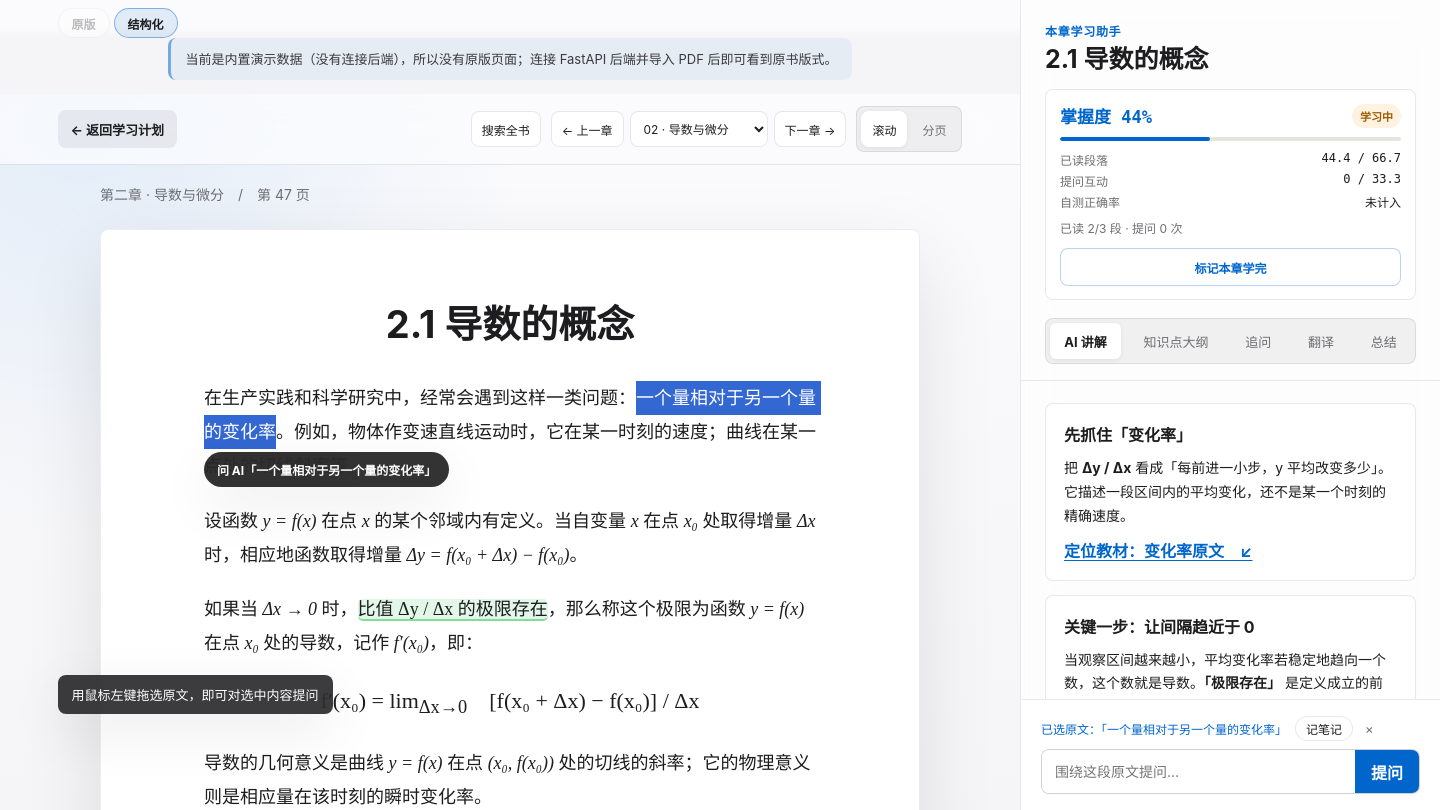
Scenario: 笔记 › 保存失败时把原因说出来，且不清空用户写的内容
Expected: the element with test id "paper" is shown, x1=100 y1=229 x2=920 y2=809
Click the button with test id "note-start" at (1324, 728), box x1=1295 y1=716 x2=1353 y2=741
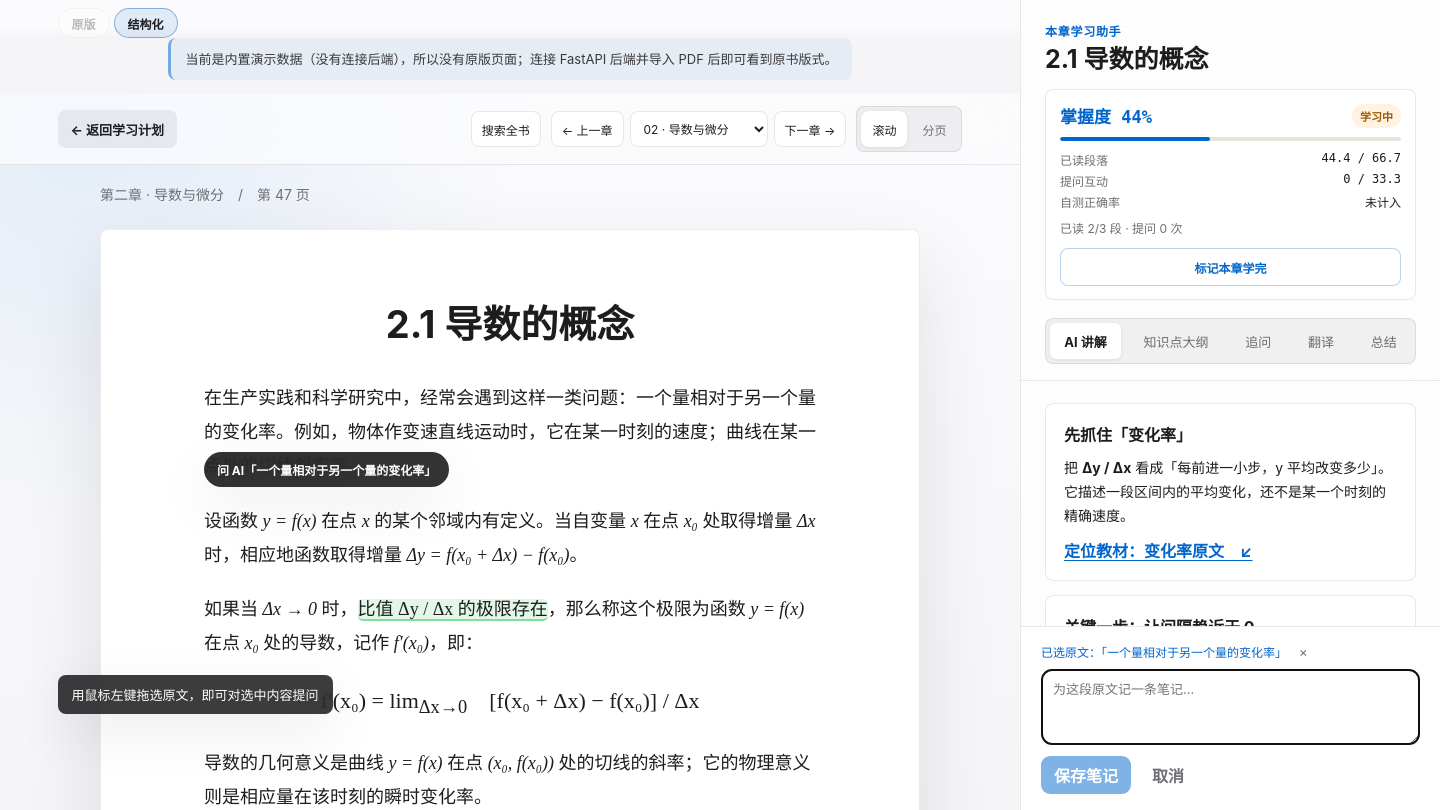
Type "写了半天的一句" into the text box named "笔记内容" at (1230, 707), box x1=1041 y1=669 x2=1420 y2=745
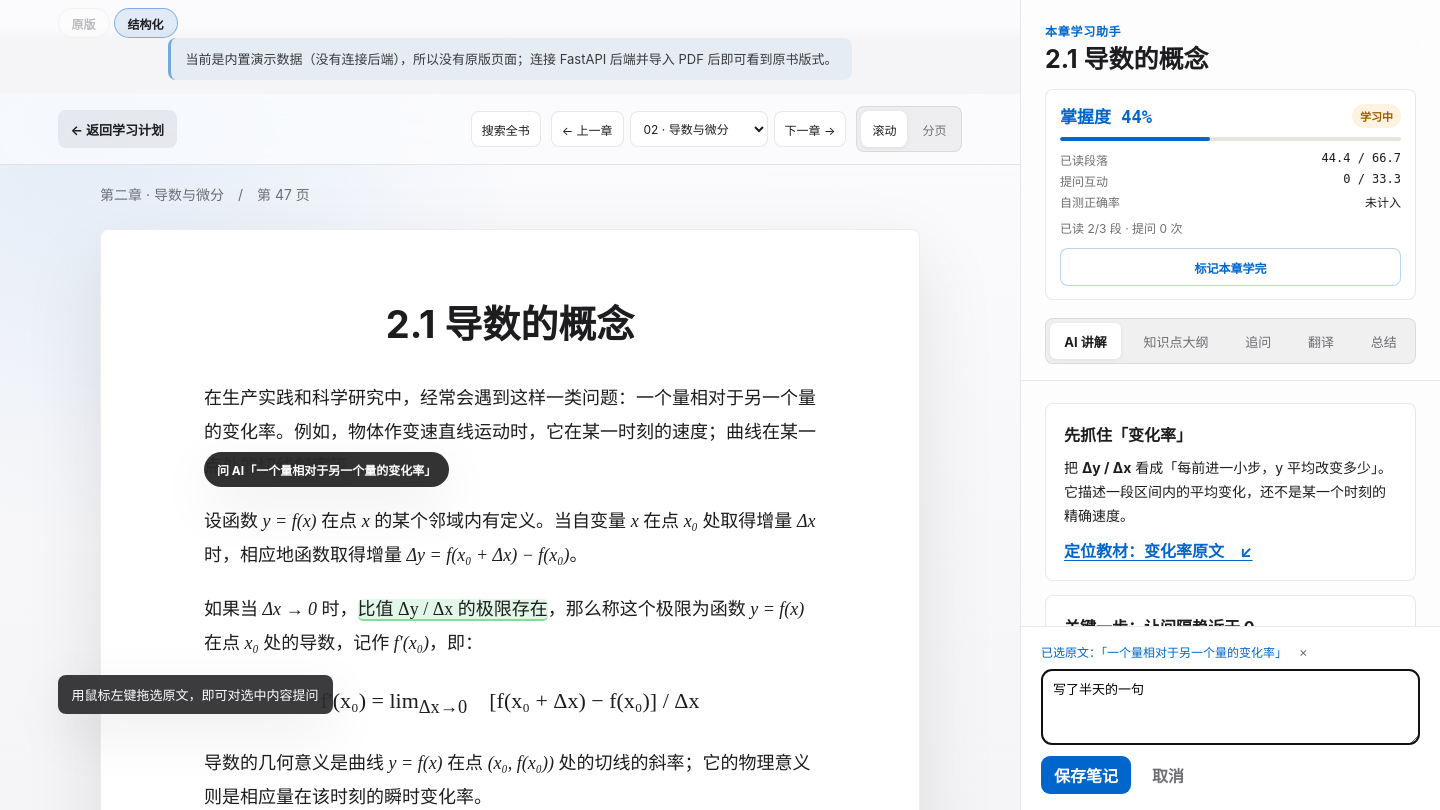
Click the button "保存笔记" at (1086, 775), box x1=1041 y1=756 x2=1131 y2=794
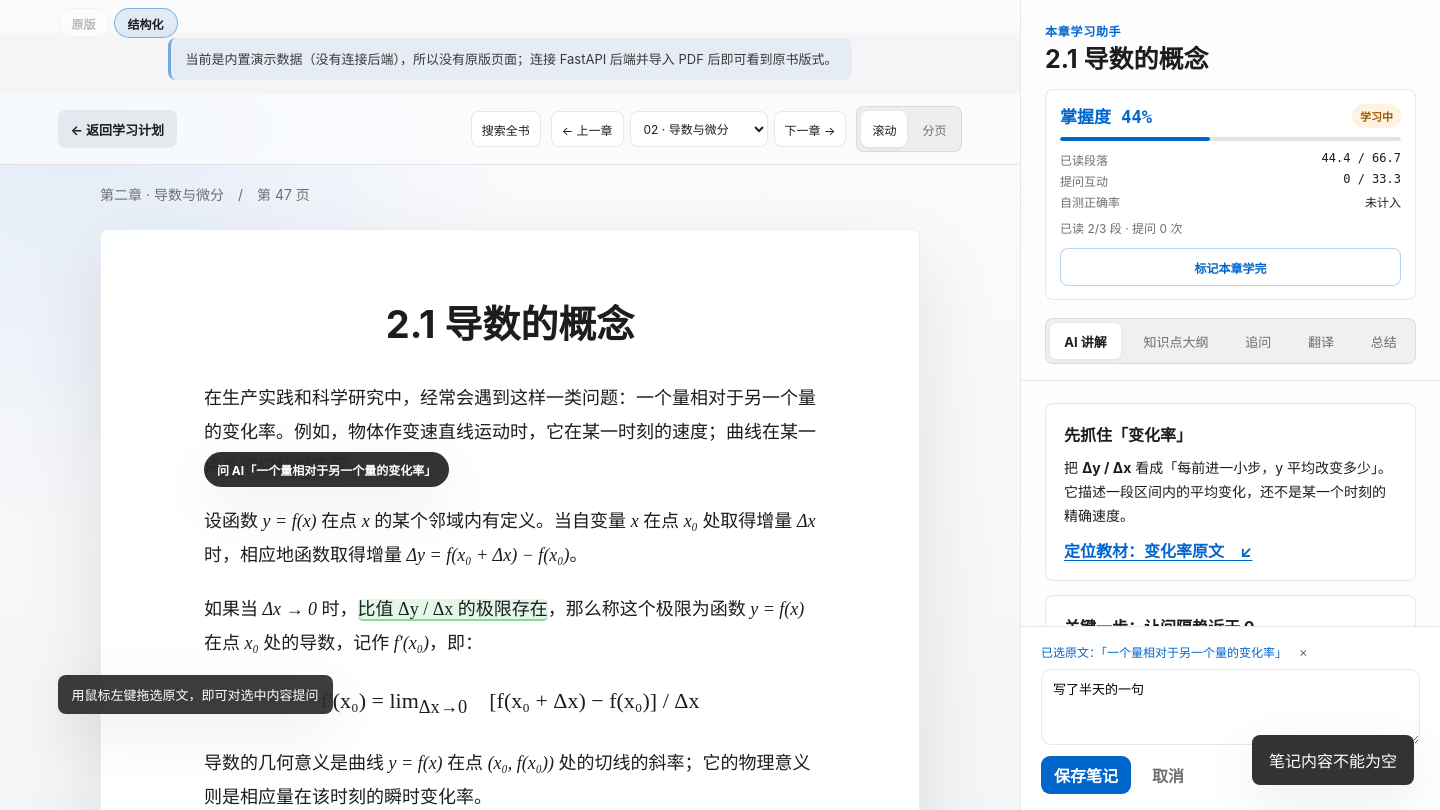
Now the text "笔记内容不能为空" is shown, box x1=1252 y1=735 x2=1414 y2=785
